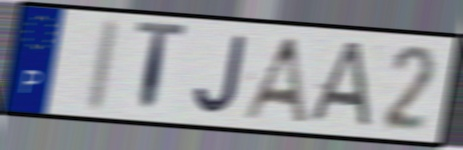2: (382, 43, 438, 135)
A: (237, 34, 311, 127), (302, 40, 375, 130)
I: (81, 16, 124, 115)
J: (191, 32, 251, 117)
T: (132, 18, 190, 119)
